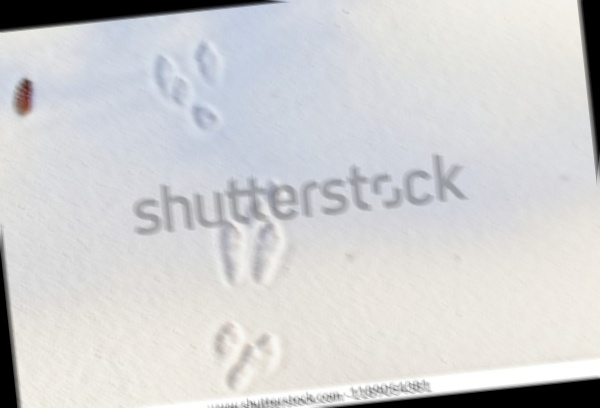rabbit: (136, 35, 254, 157)
